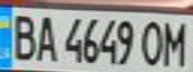4: (96, 15, 121, 65), (60, 12, 84, 63)
6: (78, 15, 103, 64)
9: (115, 16, 139, 66)
A: (30, 11, 60, 63)
B: (6, 10, 39, 62)
M: (160, 17, 193, 68)
O: (139, 17, 166, 68)
